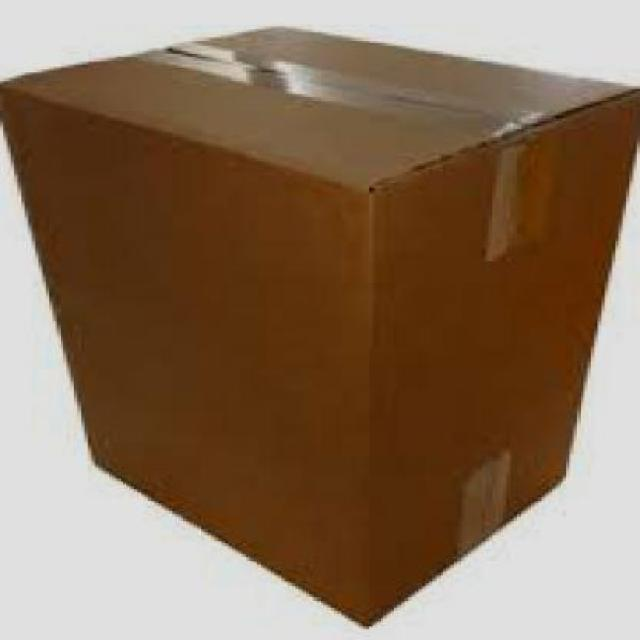box: (0, 16, 637, 638)
